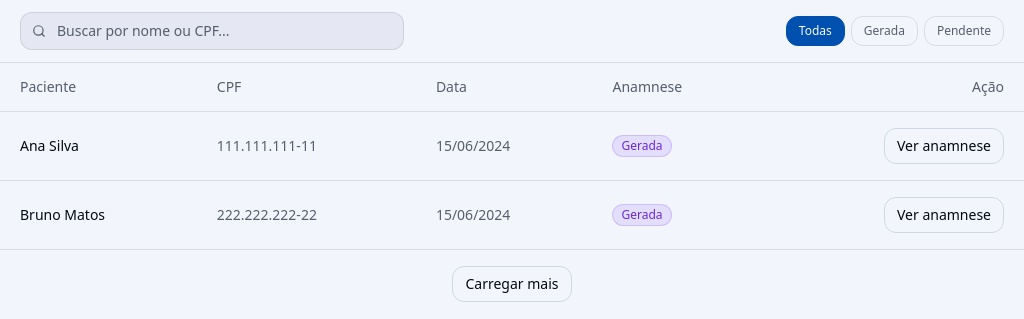
Test: HistoryClient — carregar mais › oculta botão após carregar último lote
Click the button "Carregar mais" at (512, 284), box x1=452 y1=266 x2=572 y2=302
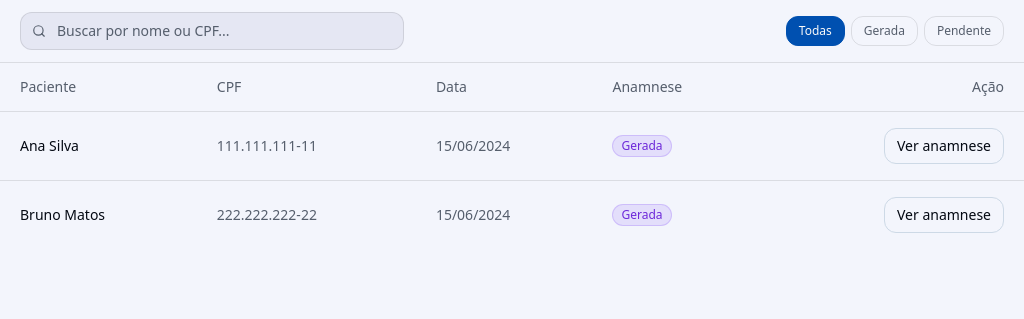
Now the button "Carregar mais" is gone
